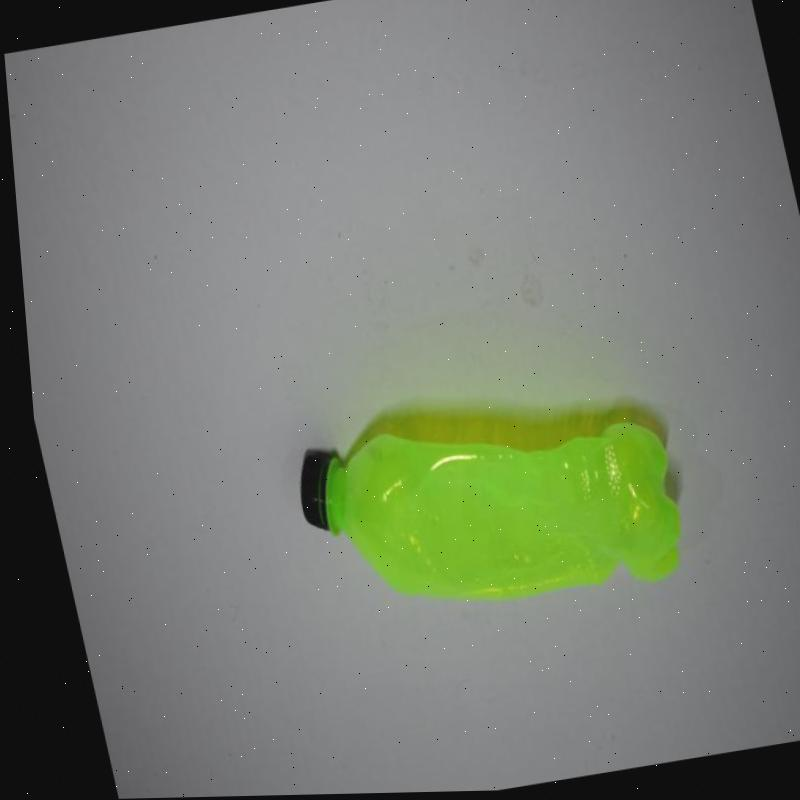botella: (274, 381, 695, 637)
